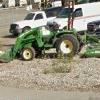Tractor: (4, 14, 89, 73)
